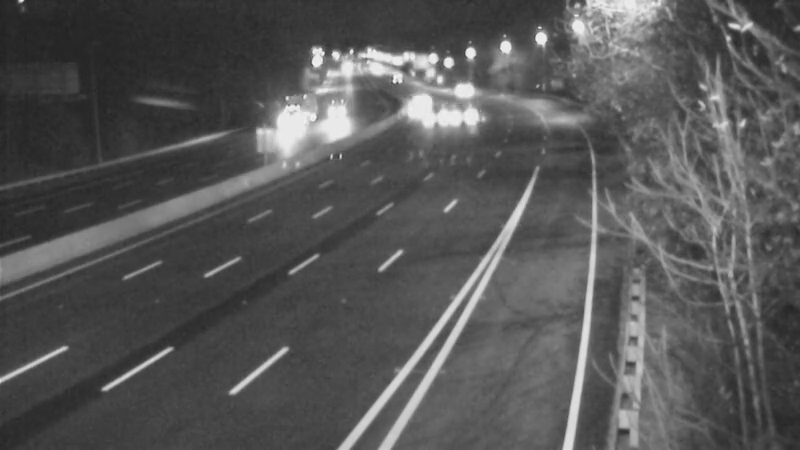vehicle: (371, 53, 421, 103), (436, 66, 486, 116), (397, 71, 447, 121), (389, 85, 439, 135), (442, 90, 492, 140), (408, 89, 458, 139), (266, 95, 316, 145), (312, 82, 362, 132)
